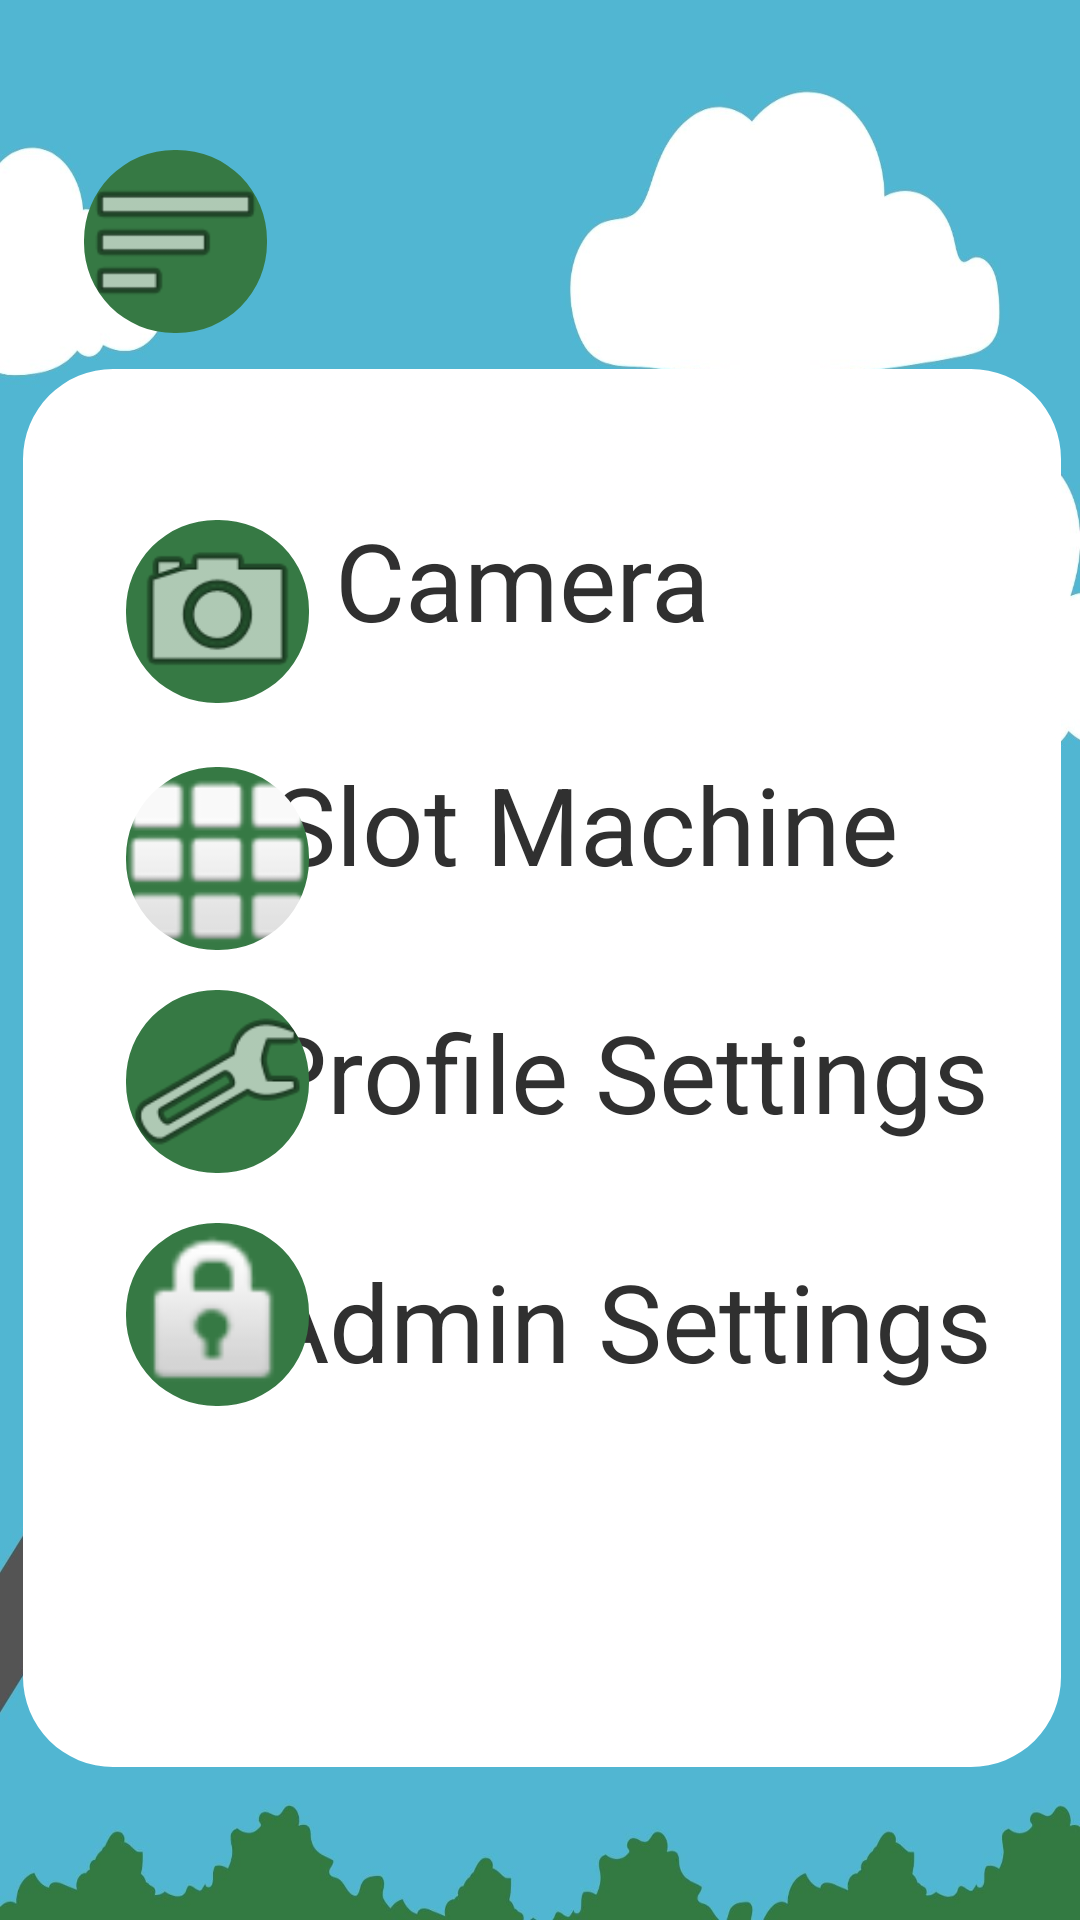

Named icons in this screenshot (1080px x 1920px) and their centers, (x=x, y=y):
dialer: (x=217, y=858)
lock idle: (x=217, y=1314)
preferences: (x=217, y=1081)
sort by size: (x=175, y=241)
